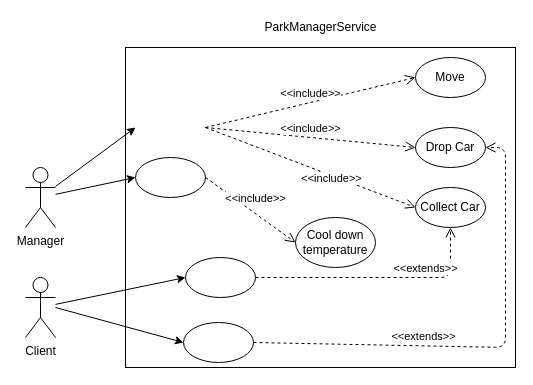
Image size: 533x385. Some labels were removed from this diagram. Here are the shapes that lost their labels. From the top down, the centre of each, then its label:
the point at 170,177: Fan
the point at 220,277: Enter Car
the point at 218,342: Pick up Car
